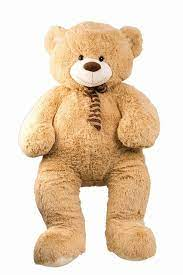teddy: (13, 16, 175, 274)
